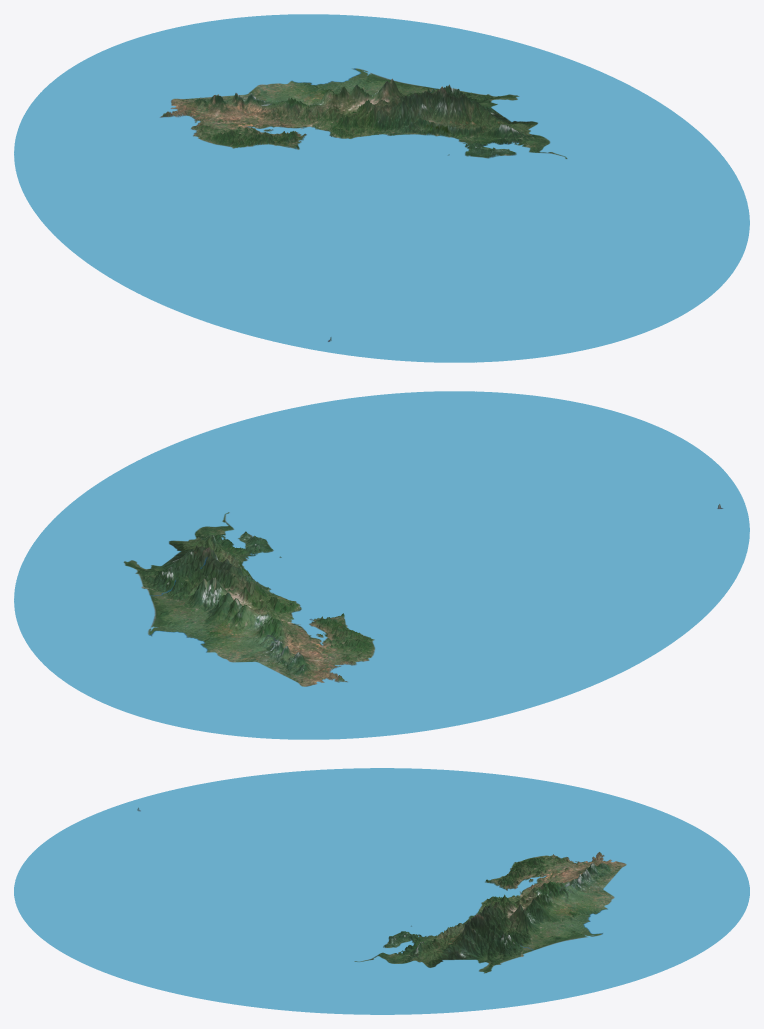
File: CRI-previa-terrain.glb
3 renders of one model, top to bottom at view 1: azimuth 30°, elevation 25°; view 2: azimuth 150°, elevation 25°; view 3: azimuth 270°, elevation 25°, orthographic. The views are drawn at different scales.
Visible parts, largest first — view 1: Costa Rica; view 2: Costa Rica; view 3: Costa Rica.
Part boxes in pixels (<box>): Costa Rica: <box>14,14,749,362</box>; Costa Rica: <box>14,391,749,739</box>; Costa Rica: <box>14,768,749,1014</box>.
Size of the model in its own units: 2.1 by 0.1025 by 2.64.
Materials: 1 (1 with a texture image).
